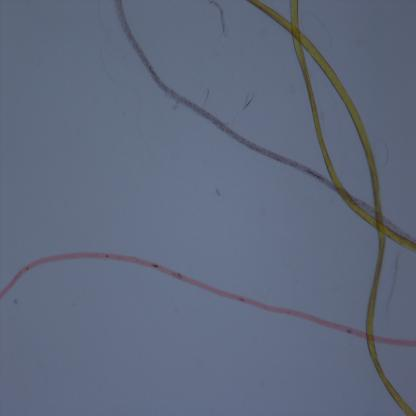Cellulose filter fibre: (206, 1, 233, 36)
Microfibre: (114, 0, 416, 244), (249, 0, 416, 416), (0, 249, 416, 349), (289, 0, 416, 251)
